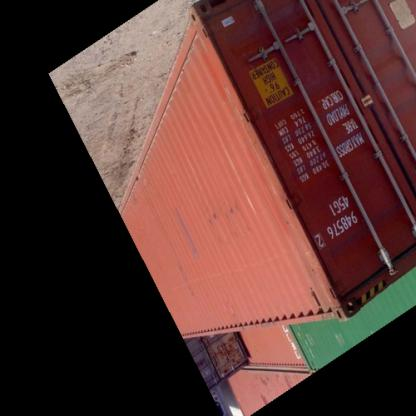Damage: (280, 186, 338, 310), (192, 207, 244, 238)
